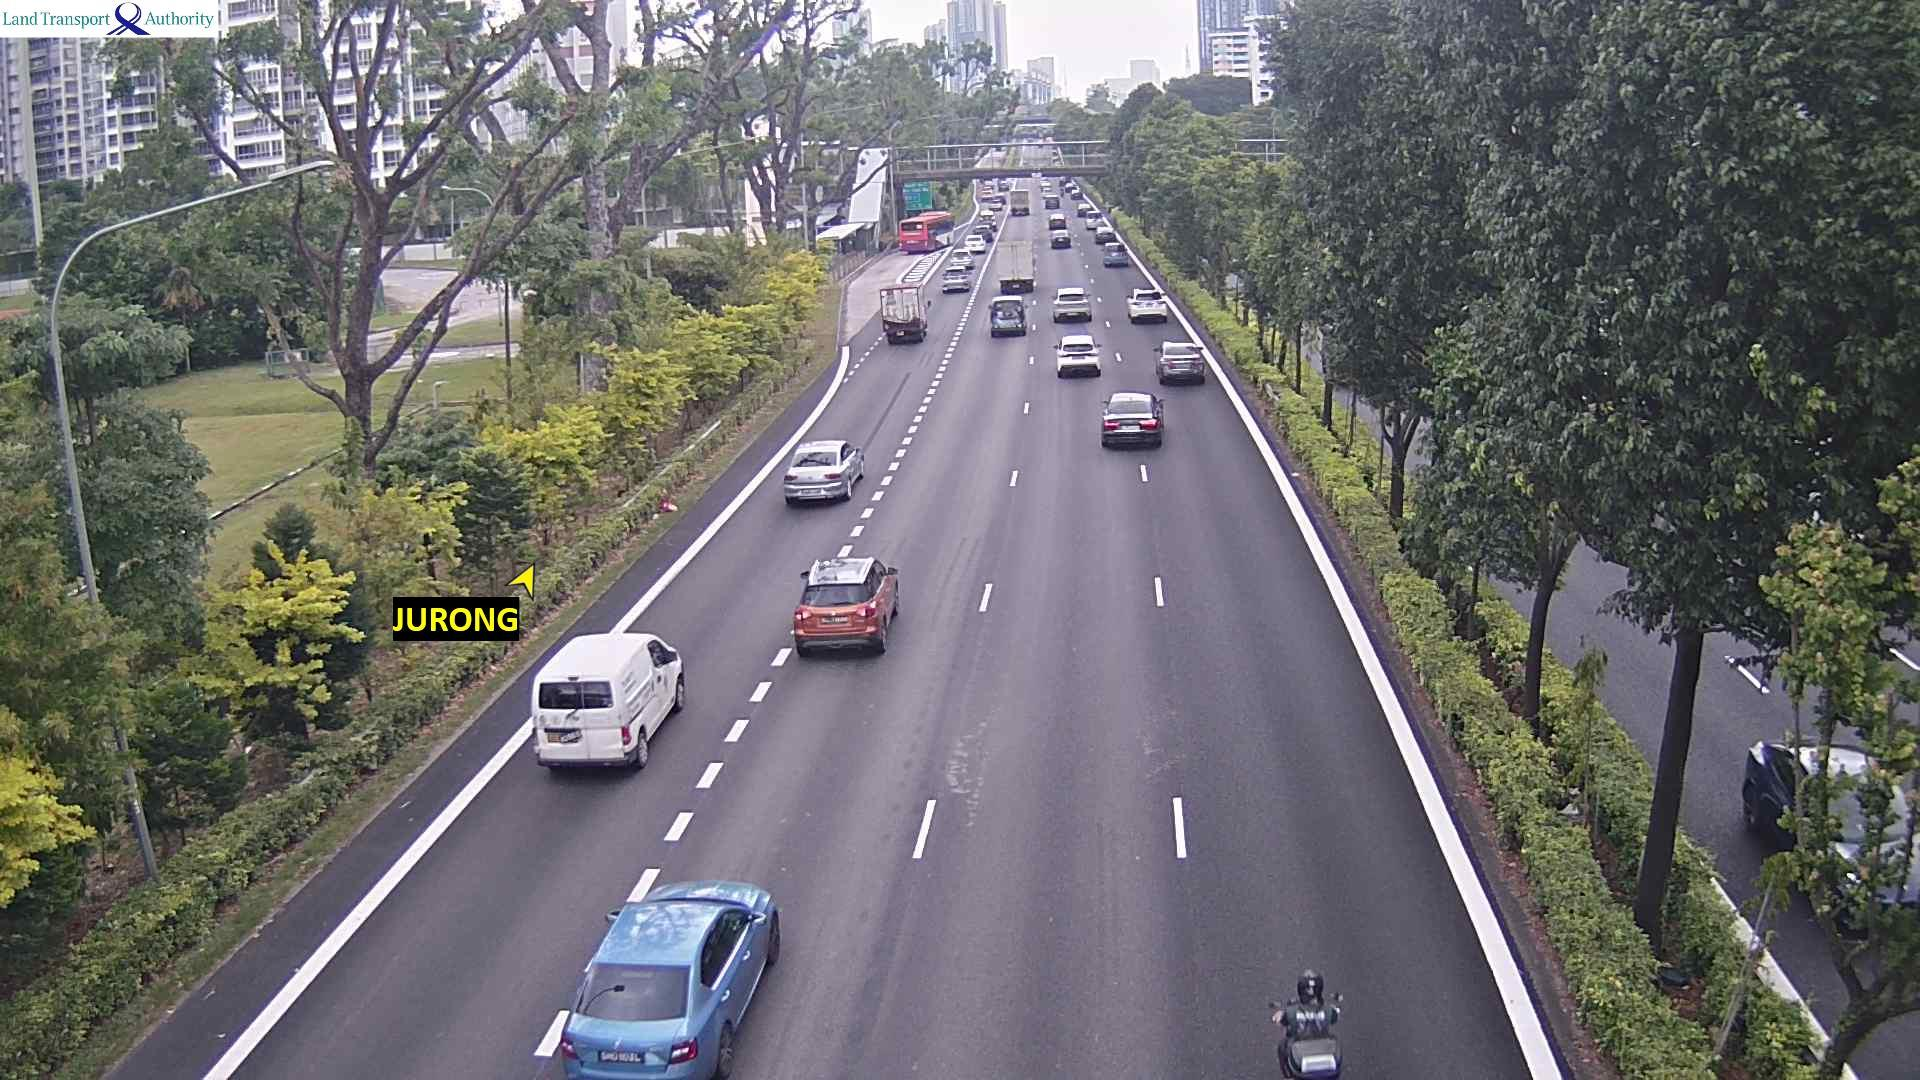bus: (897, 210, 954, 253)
cars: (541, 878, 780, 1078), (1740, 736, 1917, 914), (530, 630, 685, 772), (791, 555, 900, 657), (782, 438, 864, 506), (1100, 390, 1163, 449), (1155, 340, 1205, 383), (1054, 332, 1100, 377), (988, 295, 1026, 336), (1126, 286, 1167, 322), (1052, 286, 1092, 322), (940, 264, 969, 292), (1101, 241, 1128, 266), (949, 247, 974, 270), (963, 230, 987, 253), (1094, 222, 1116, 244), (1049, 228, 1071, 248), (978, 214, 998, 236), (1085, 211, 1105, 233), (1047, 210, 1067, 229), (1042, 191, 1060, 211), (1075, 202, 1096, 218), (983, 200, 1008, 212), (1069, 190, 1088, 201), (1063, 182, 1080, 192), (980, 188, 993, 200), (1039, 182, 1053, 193), (980, 179, 995, 189), (997, 181, 1011, 191)
motorcycle: (1268, 969, 1344, 1079), (1060, 189, 1064, 198)
trucks: (877, 283, 927, 343), (996, 238, 1036, 293), (1006, 188, 1035, 217)
